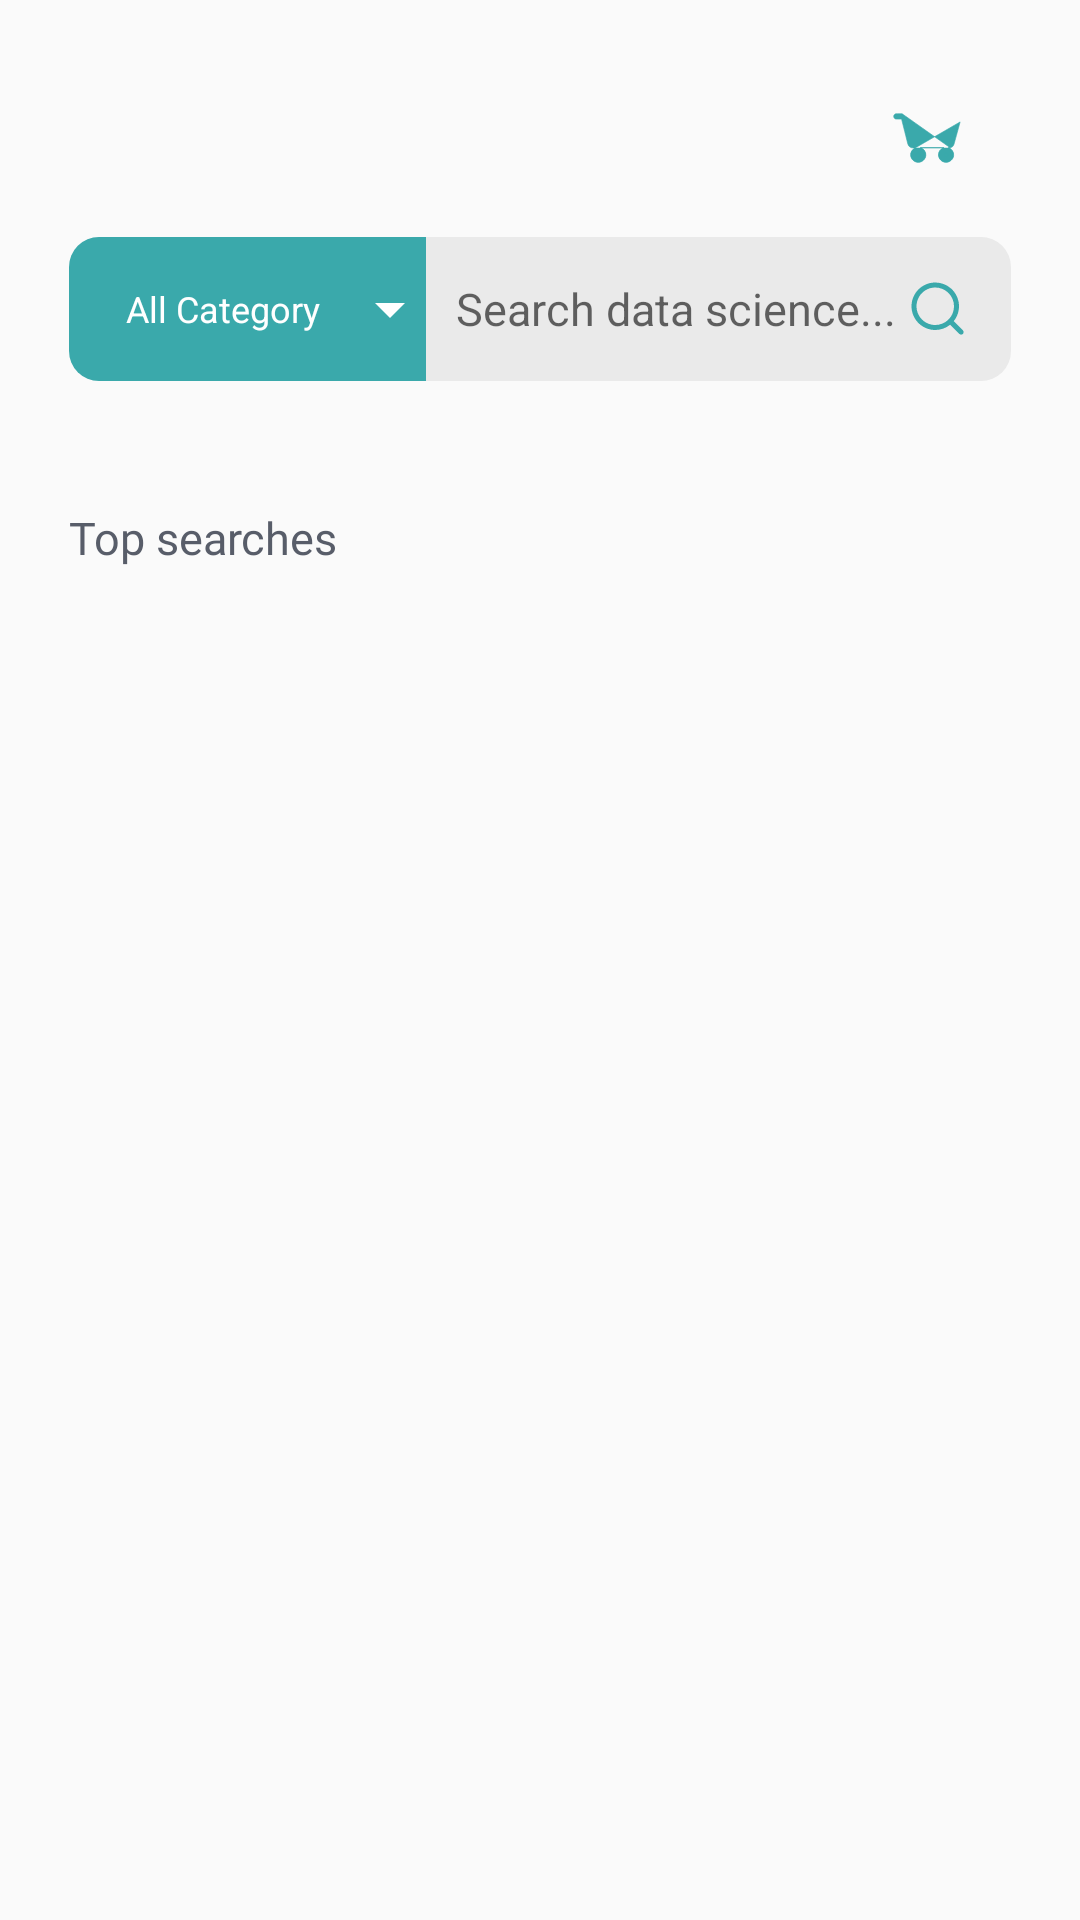

Icons on this 1080w x 1920h Android screen, each with its box as (x1, y1, x2, y2):
cart: (893, 113, 961, 163)
